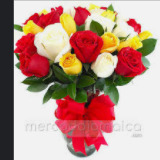RedRose: (113, 46, 149, 78), (15, 52, 53, 76), (71, 30, 99, 61), (27, 7, 62, 26), (16, 34, 41, 52), (127, 14, 145, 38), (99, 5, 118, 24), (72, 3, 88, 23)
